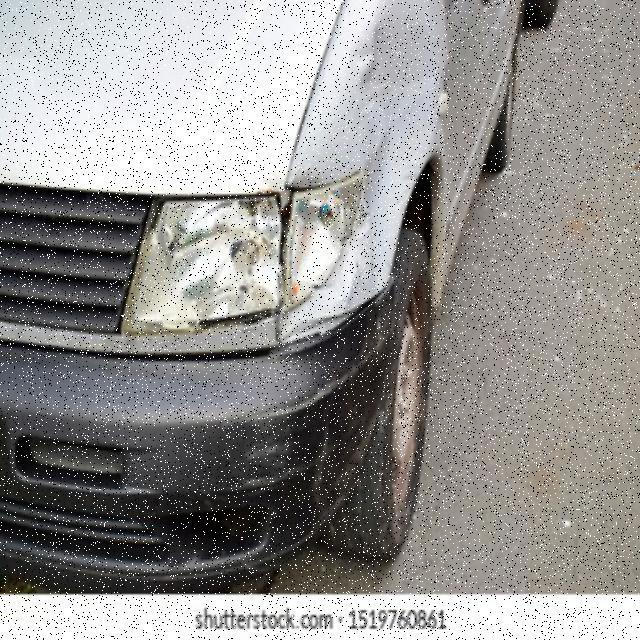fender-dent: (295, 0, 448, 343)
front-bumper-dent: (7, 340, 386, 514)
